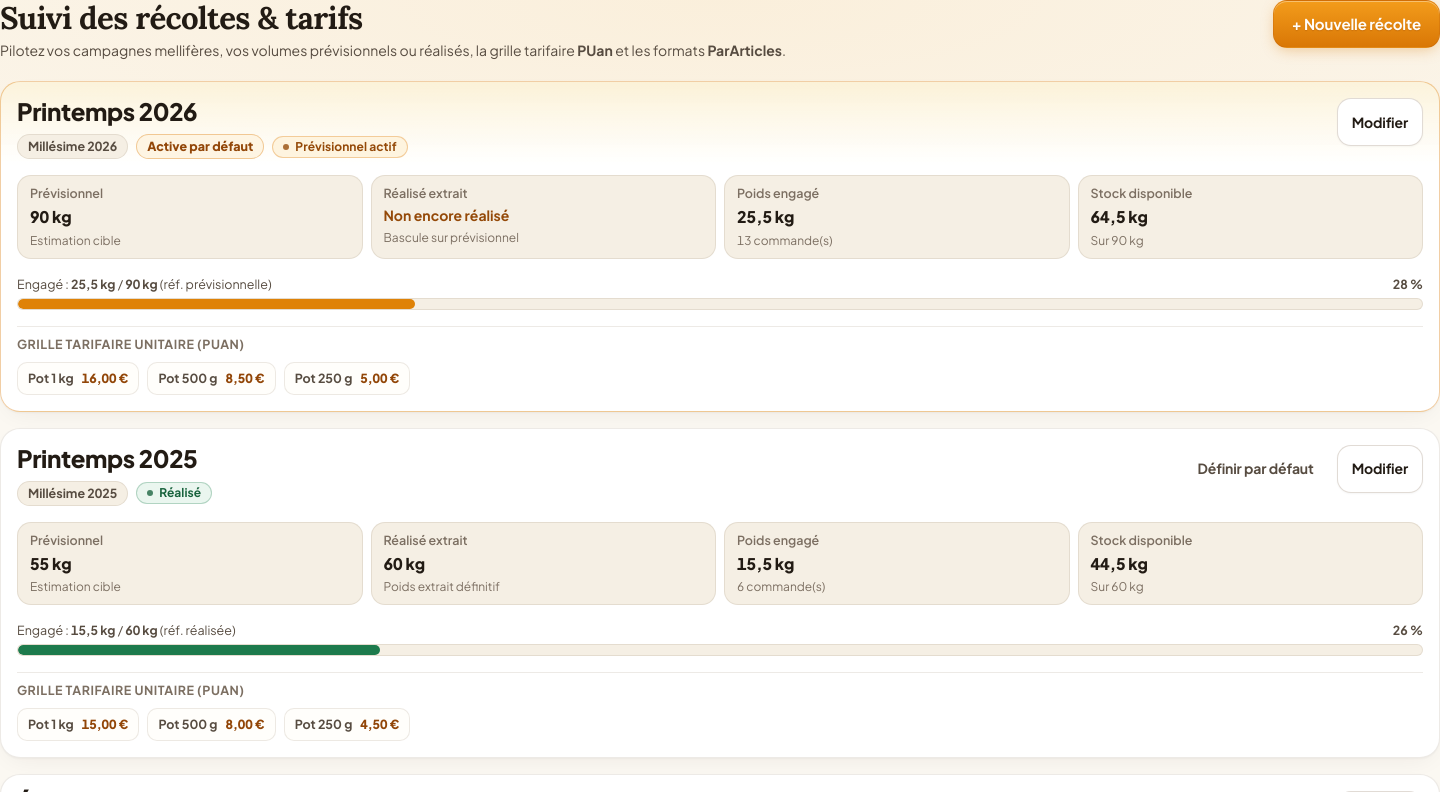
Test: HarvestsPage (M6 — F-09) › preserves harvest form inputs and shows toast-error when network write fails
Click the button with test id "harvest-create-btn": (1356, 24) [1273, 0, 1439, 48]
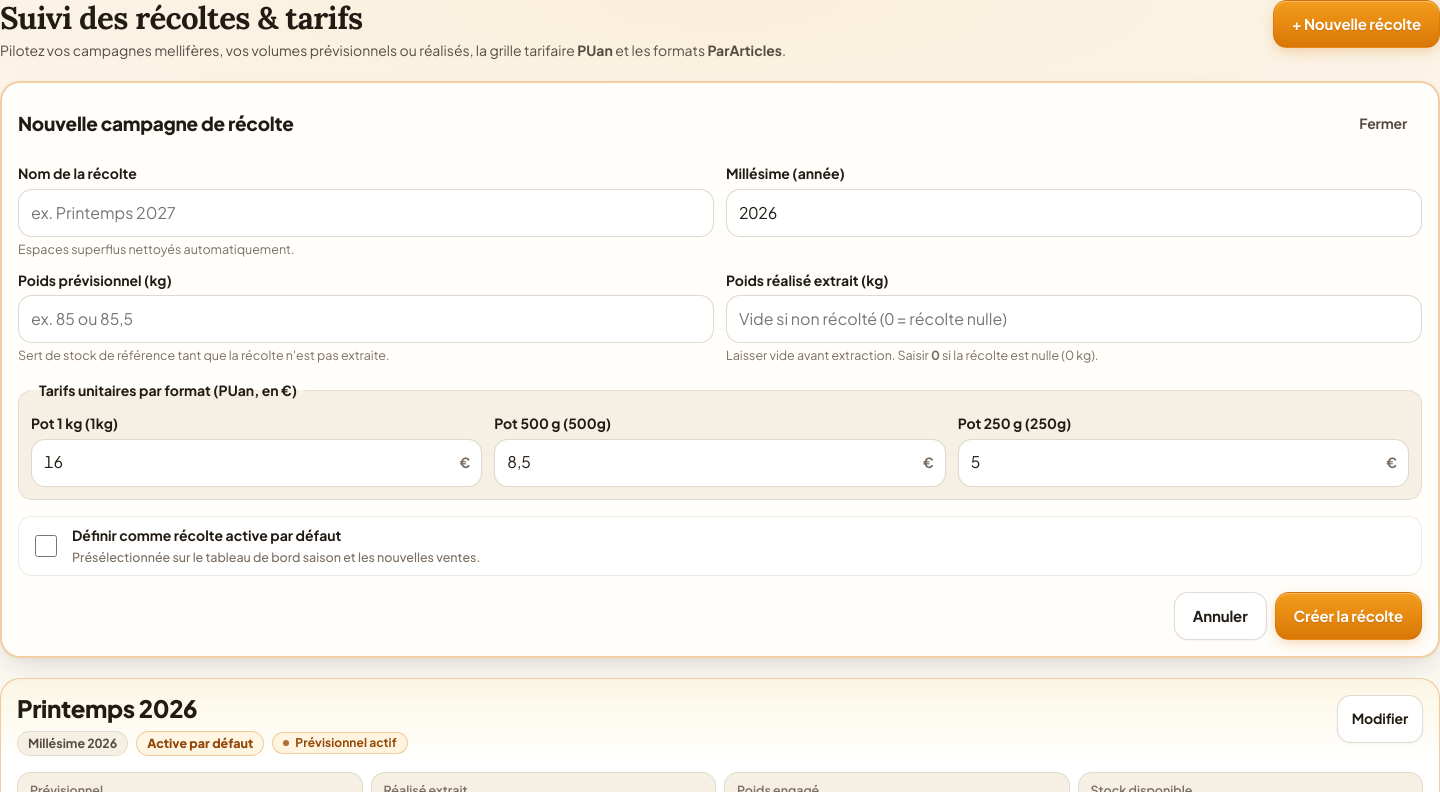
In the field with test id "harvest-label-input": (366, 213) [18, 189, 714, 237], type "Châtaignier 2026"
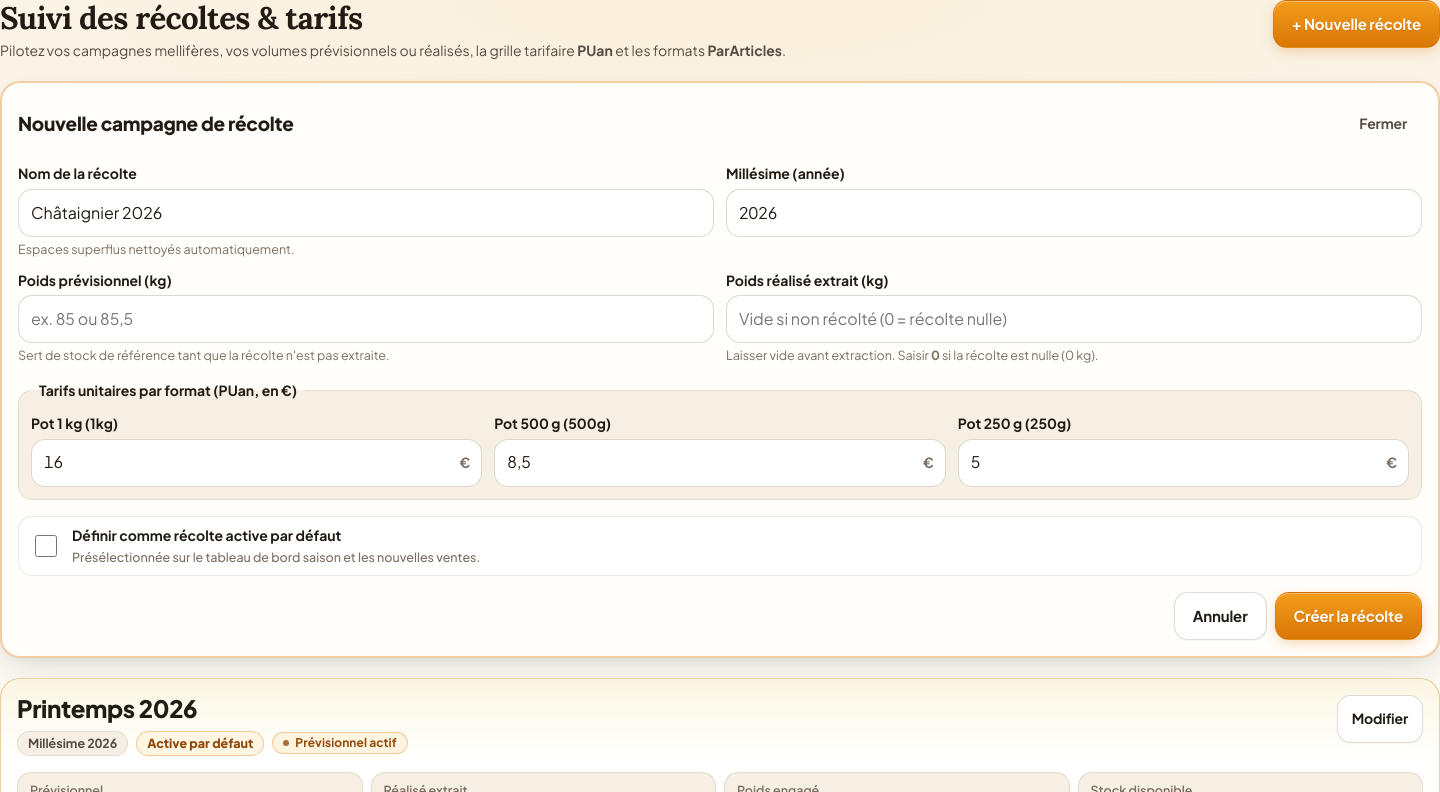
In the field with test id "harvest-forecast-input": (366, 319) [18, 295, 714, 343], type "40"
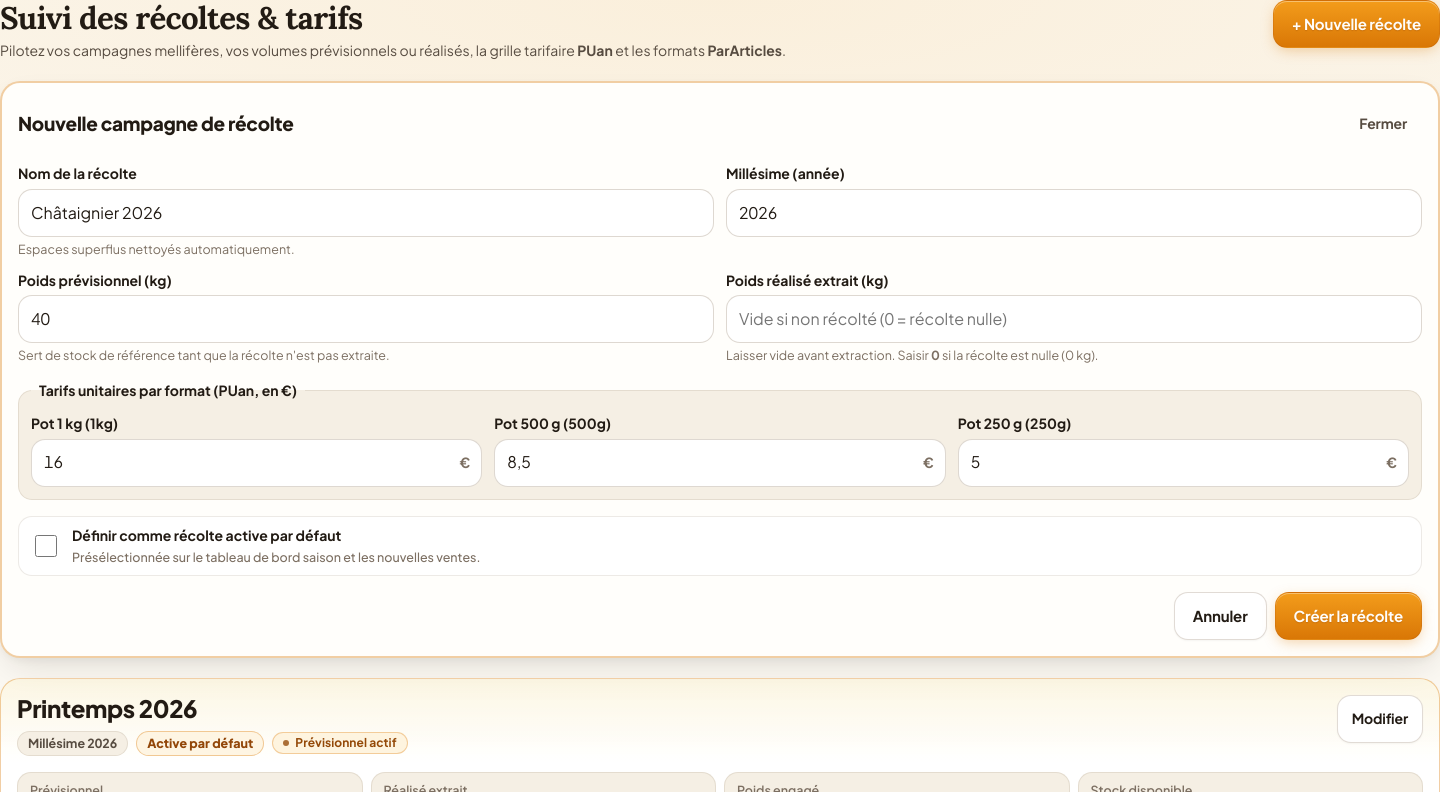
Click the button with test id "harvest-save-btn": (1348, 616) [1275, 592, 1422, 640]
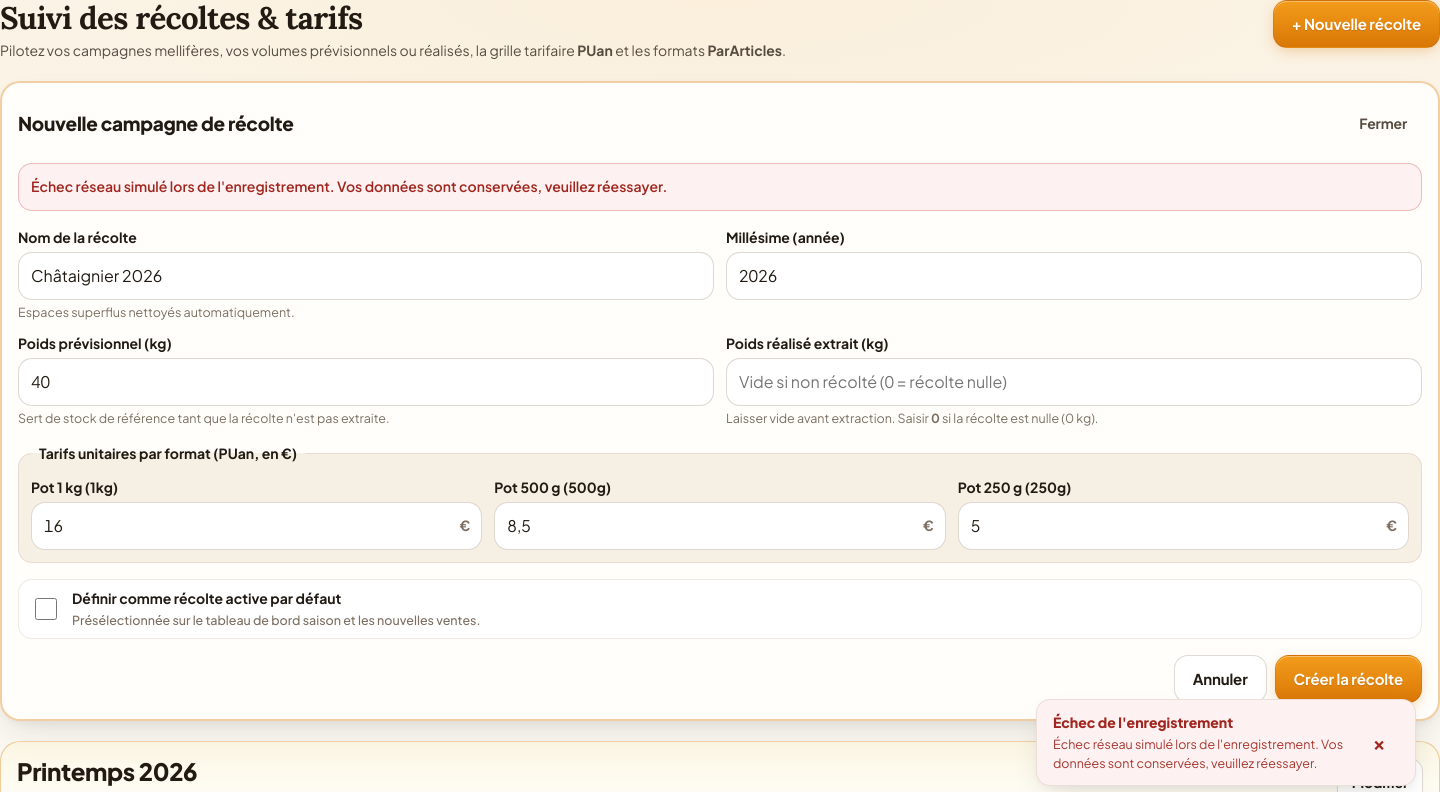
Expected: the message with test id "toast-error" is shown, [1036, 699, 1416, 786]
